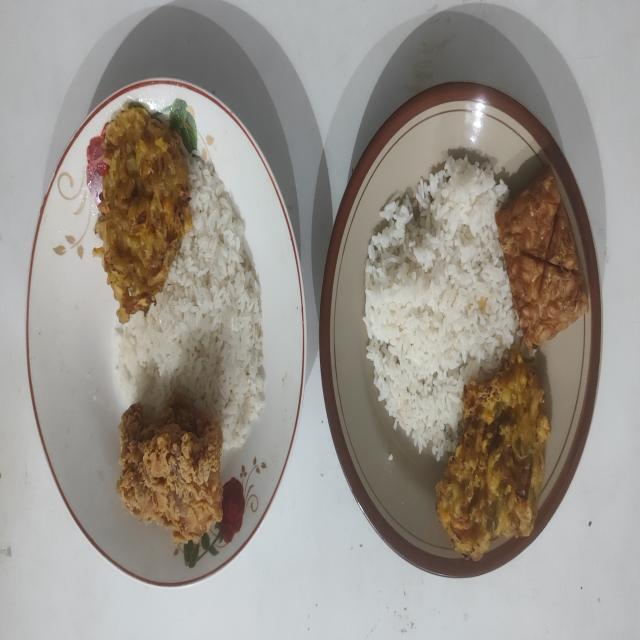nasi_putih: (362, 154, 520, 460), (116, 156, 266, 450)
tempe_goreng: (496, 170, 589, 349)
